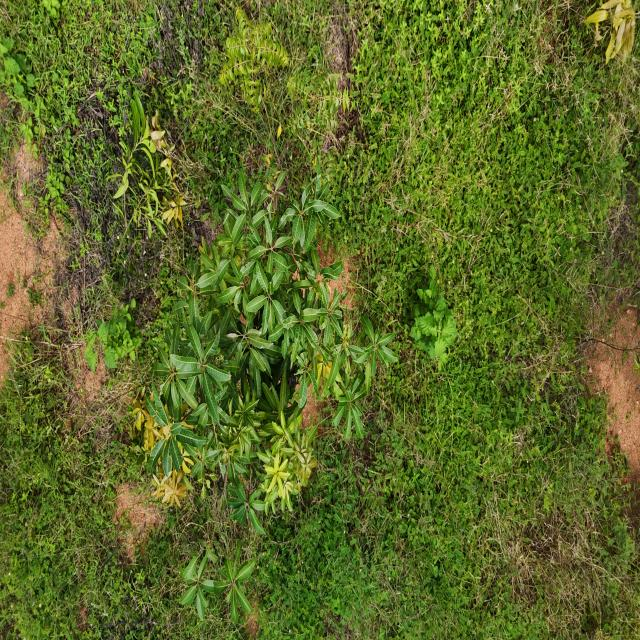mangoTree: (146, 163, 398, 629)
notMangoTree: (216, 0, 296, 117)
